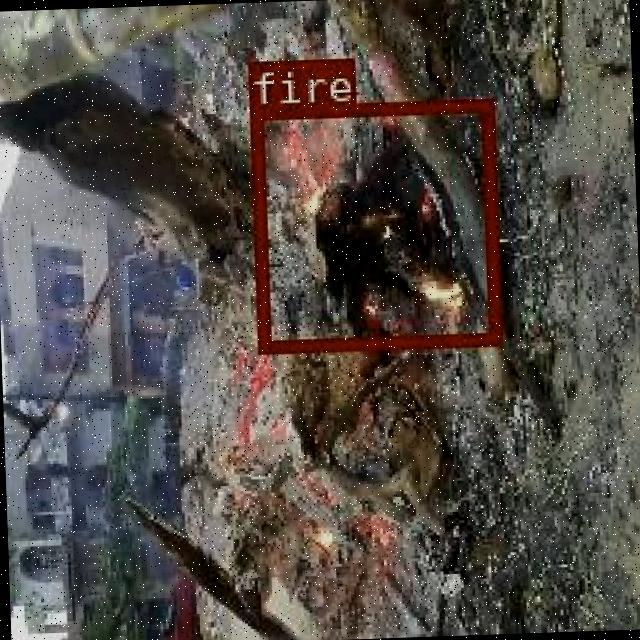fire: (247, 97, 499, 349)
